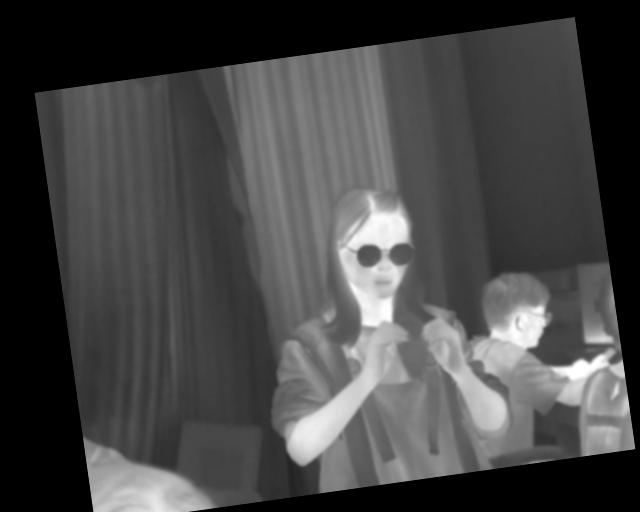face: (325, 180, 422, 305)
